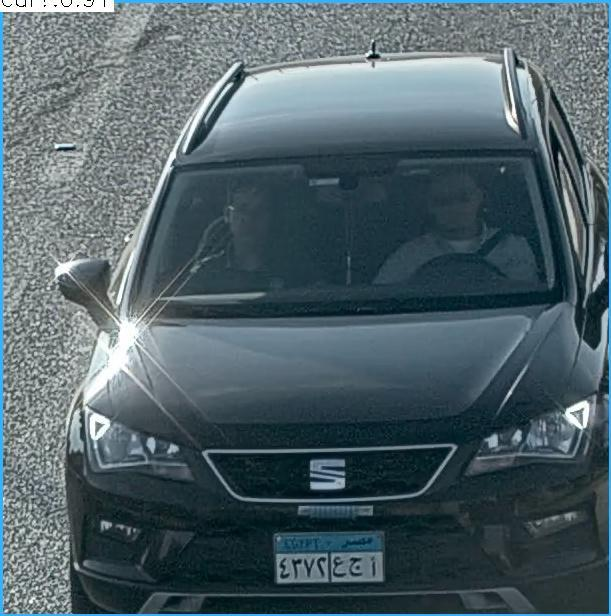windshield: (125, 138, 575, 323)
